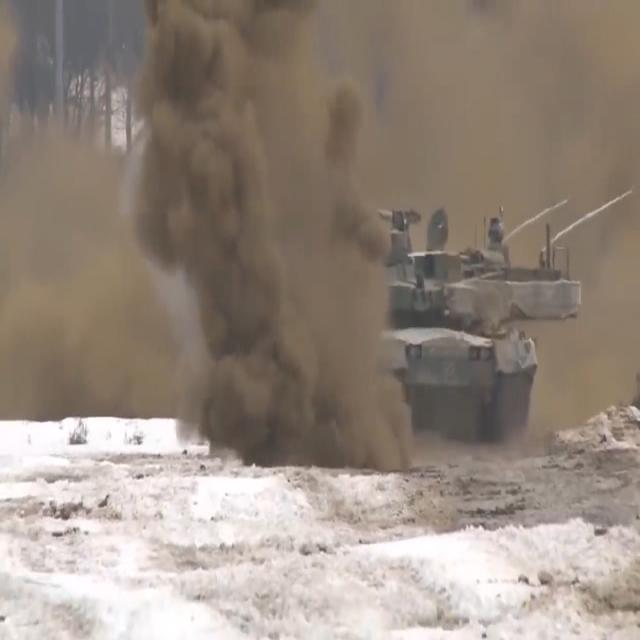korea tank: (196, 192, 585, 443)
